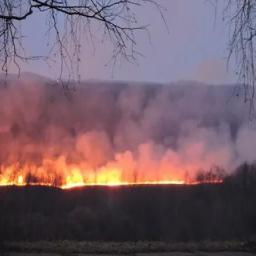Low smoke: (1, 69, 255, 171)
Medium fire: (1, 146, 226, 191)
